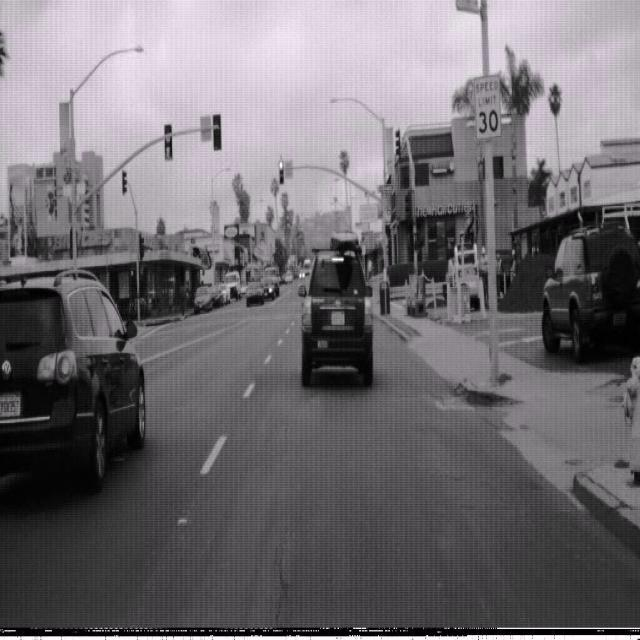speedLimit30: (473, 72, 502, 141)
